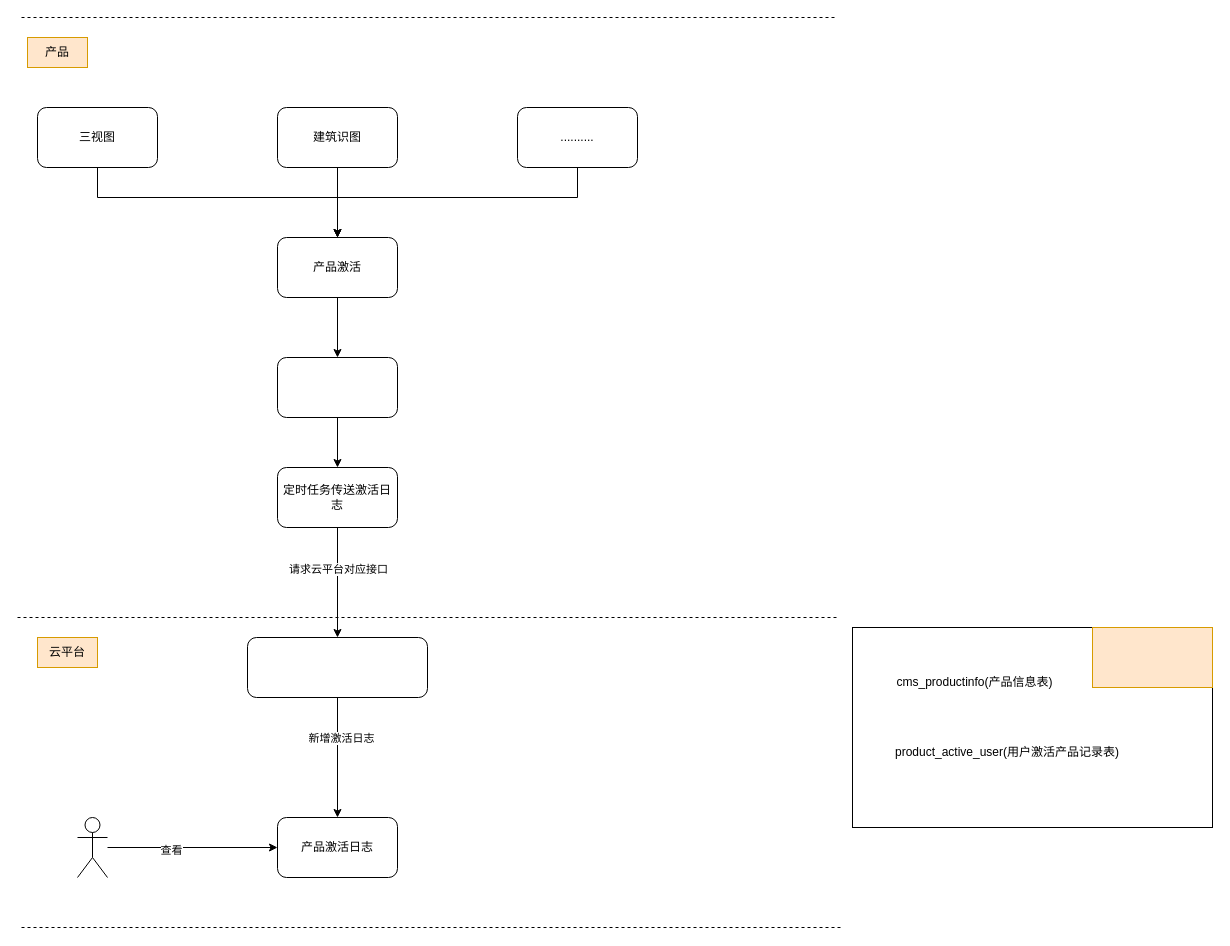
Image size: 1230x946. Some labels were removed from this diagram. The shapes that lost their labels are listed below. From the top down, each one's box as (x1, y1, x2, y2) in pixels, then its label:
(276, 356, 398, 418): 存储激活日志
(246, 636, 428, 698): 云平台对外提供接口 /api/collectionLog/addActivelog
(1092, 626, 1212, 688): 该流程涉及的表
(76, 816, 108, 878): 管理员
